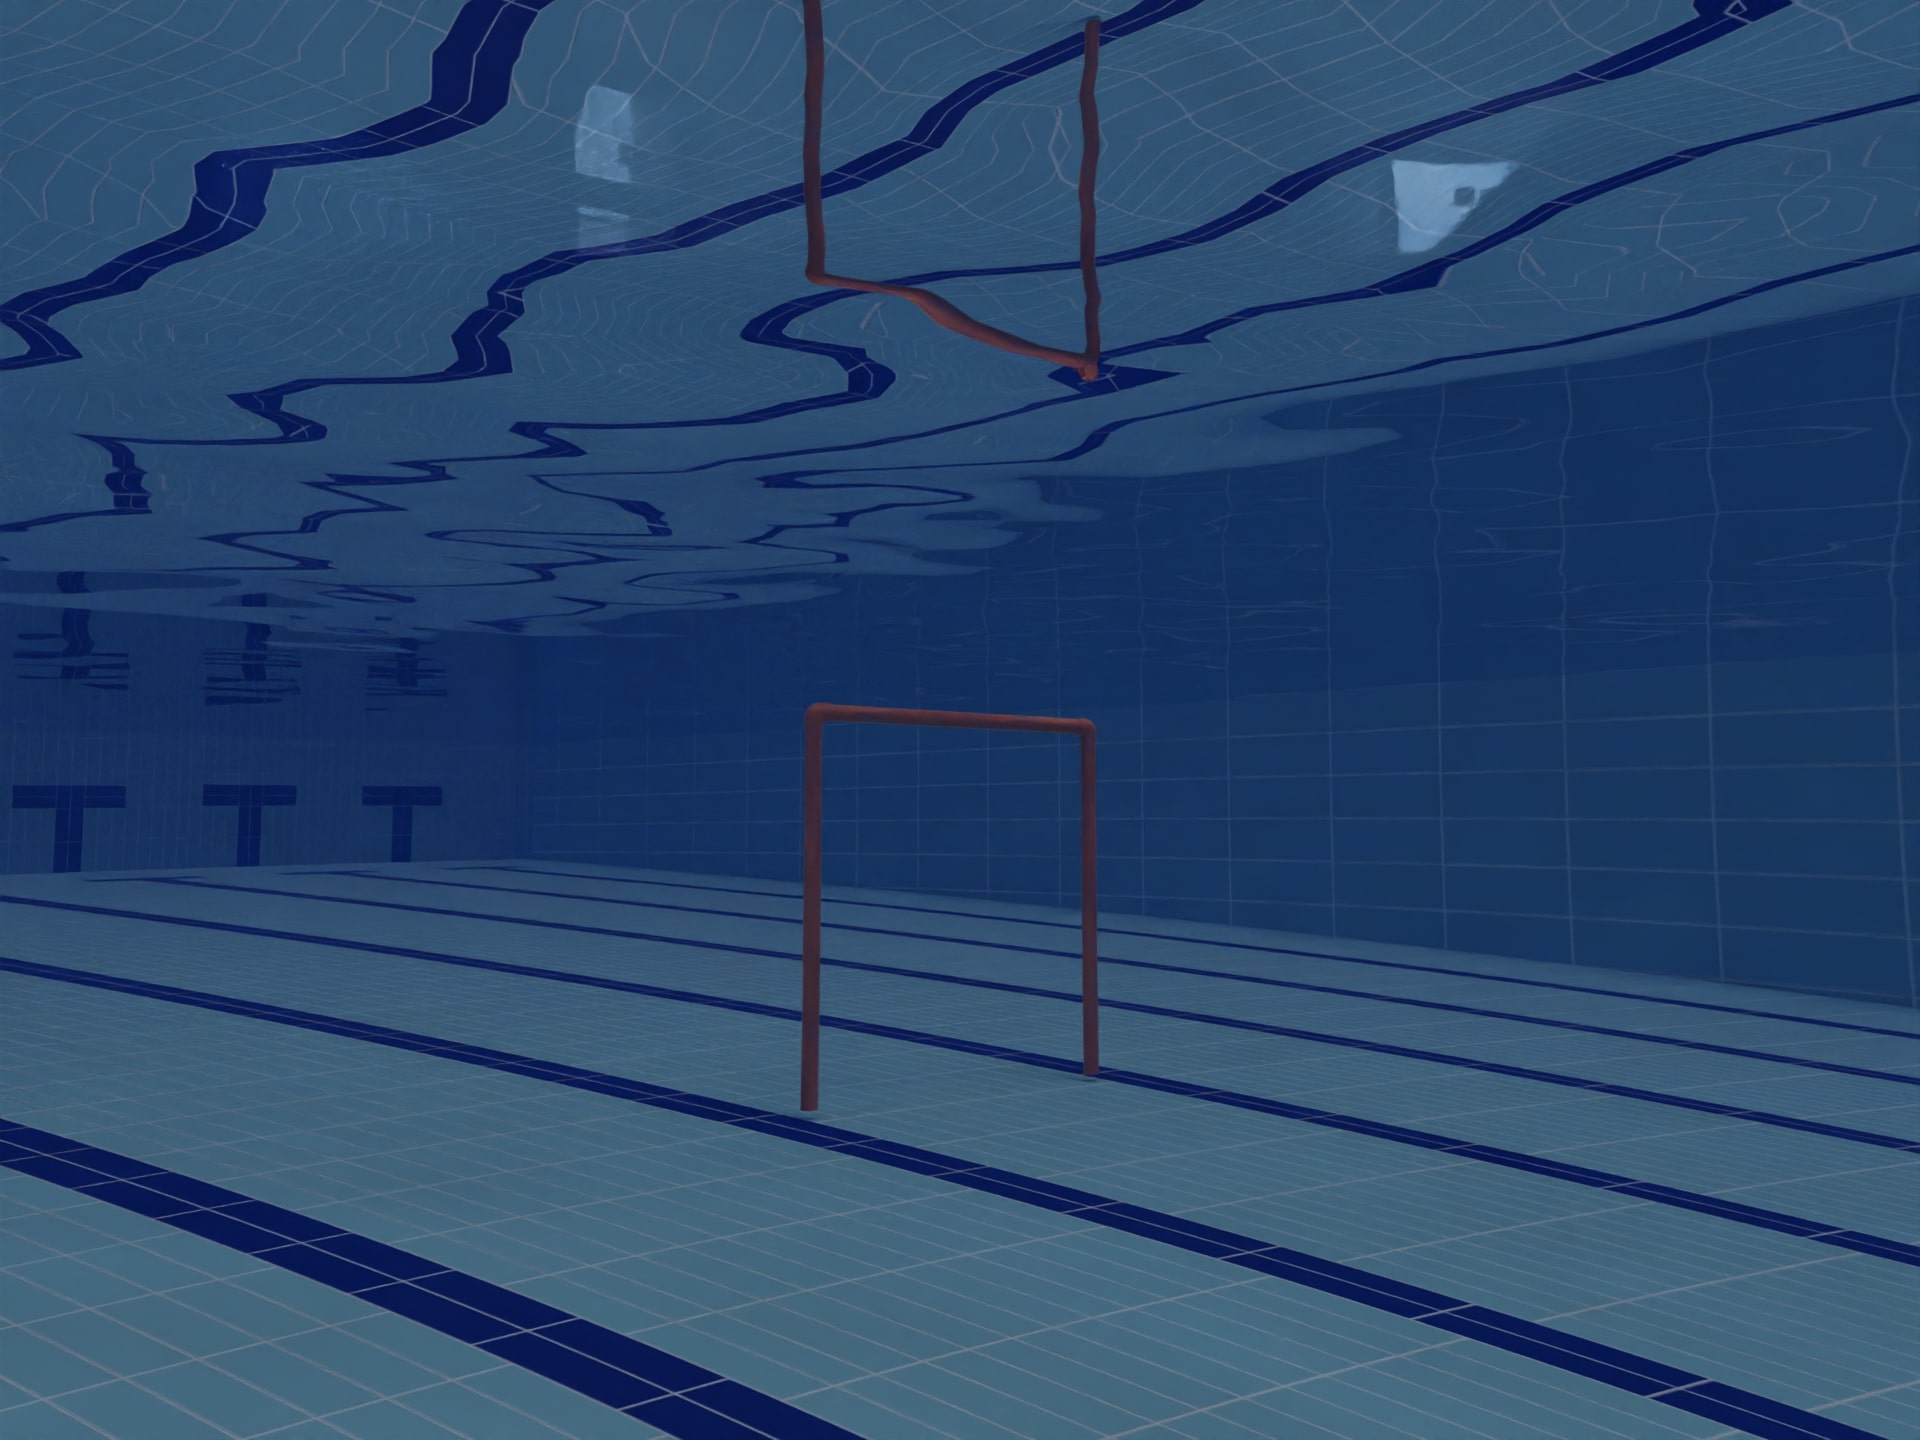gate: (782, 679, 1132, 1157)
